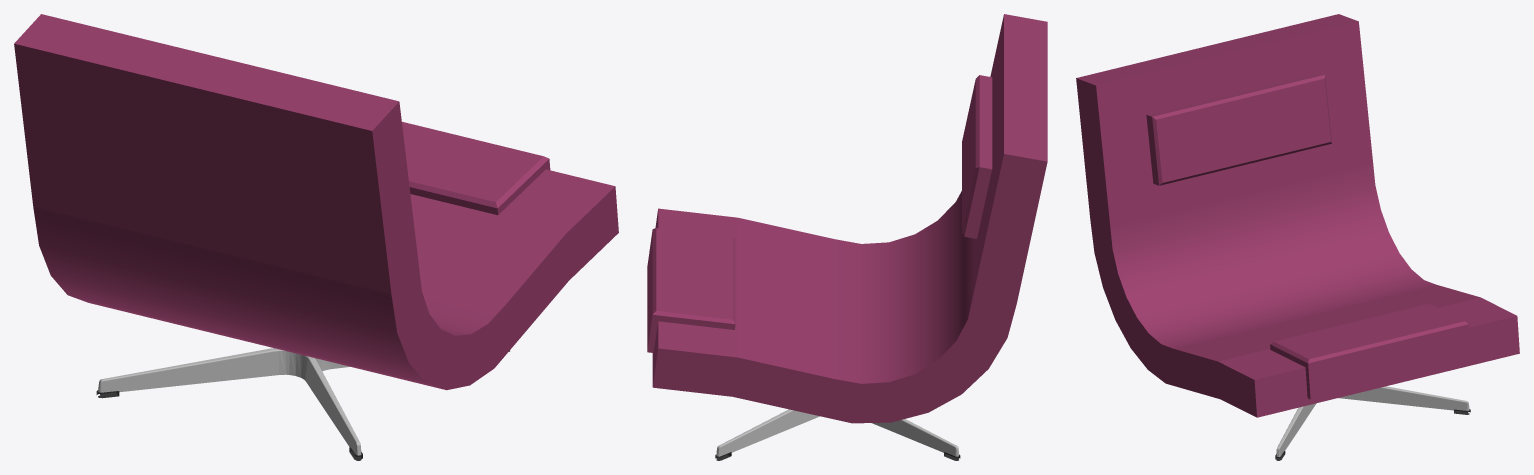
File: sofasingle.obj
3 views of the same model, side by side, from view 1: azimuth 30°, elevation 25°; view 2: azimuth 150°, elevation 25°; view 3: azimuth 270°, elevation 25° (orthographic). The views are drawn at different scales.
Visible parts, largest first — view 1: Mesh7 chair1 Dania_Chair1 Chair_Arm_2_1 Model, Mesh1 Group_1 ske24_1 Dania_Chair1 Chair_Arm_2_1 Model; view 2: Mesh7 chair1 Dania_Chair1 Chair_Arm_2_1 Model, Mesh8 chair1 Dania_Chair1 Chair_Arm_2_1 Model, Mesh1 Group_1 ske24_1 Dania_Chair1 Chair_Arm_2_1 Model; view 3: Mesh7 chair1 Dania_Chair1 Chair_Arm_2_1 Model, Mesh8 chair1 Dania_Chair1 Chair_Arm_2_1 Model, Mesh1 Group_1 ske24_1 Dania_Chair1 Chair_Arm_2_1 Model.
Part boxes in pixels (x1,y1,x2,y2): Mesh7 chair1 Dania_Chair1 Chair_Arm_2_1 Model: [14, 14, 618, 390]; Mesh1 Group_1 ske24_1 Dania_Chair1 Chair_Arm_2_1 Model: [98, 348, 361, 455]; Mesh7 chair1 Dania_Chair1 Chair_Arm_2_1 Model: [647, 14, 1047, 423]; Mesh8 chair1 Dania_Chair1 Chair_Arm_2_1 Model: [962, 75, 992, 238]; Mesh1 Group_1 ske24_1 Dania_Chair1 Chair_Arm_2_1 Model: [716, 409, 959, 456]; Mesh7 chair1 Dania_Chair1 Chair_Arm_2_1 Model: [1076, 14, 1519, 417]; Mesh8 chair1 Dania_Chair1 Chair_Arm_2_1 Model: [1146, 72, 1331, 185]; Mesh1 Group_1 ske24_1 Dania_Chair1 Chair_Arm_2_1 Model: [1276, 386, 1469, 456].
Bounding box in the file's own units: 39.5 × 27.3 × 37.68.
